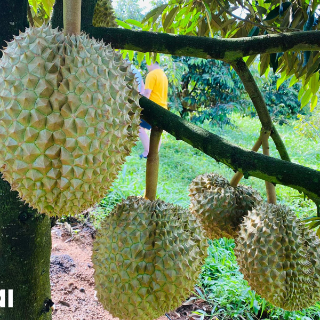sau_rieng: (2, 23, 139, 220), (97, 194, 205, 319)
